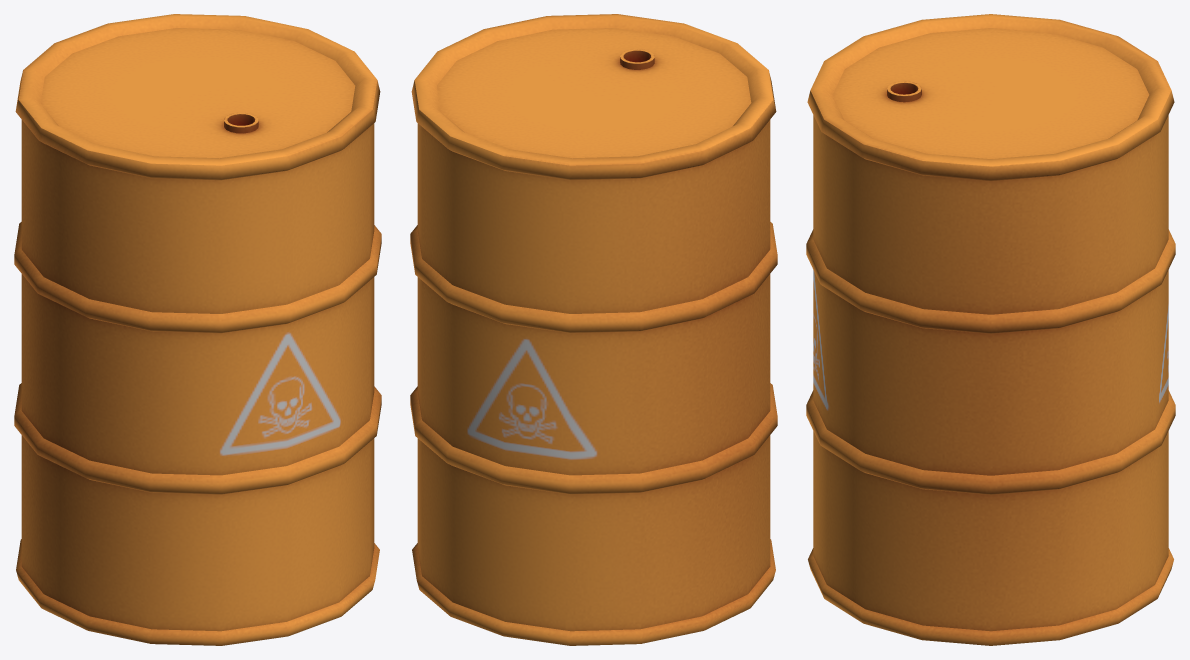
The model's file is oilBarrel01.fbx.
3 renders of one model, left to right at view 1: azimuth 30°, elevation 25°; view 2: azimuth 150°, elevation 25°; view 3: azimuth 270°, elevation 25°, orthographic.
Parts seen in each view (by area): view 1: polySurface186; view 2: polySurface186; view 3: polySurface186.
Part boxes in pixels (x1,y1,x2,y2): polySurface186: [14, 14, 381, 645]; polySurface186: [410, 14, 777, 645]; polySurface186: [806, 14, 1175, 645].
Size of the model in its own units: 14.19 by 20.47 by 14.19.
Materials: 1 (1 with a texture image).
